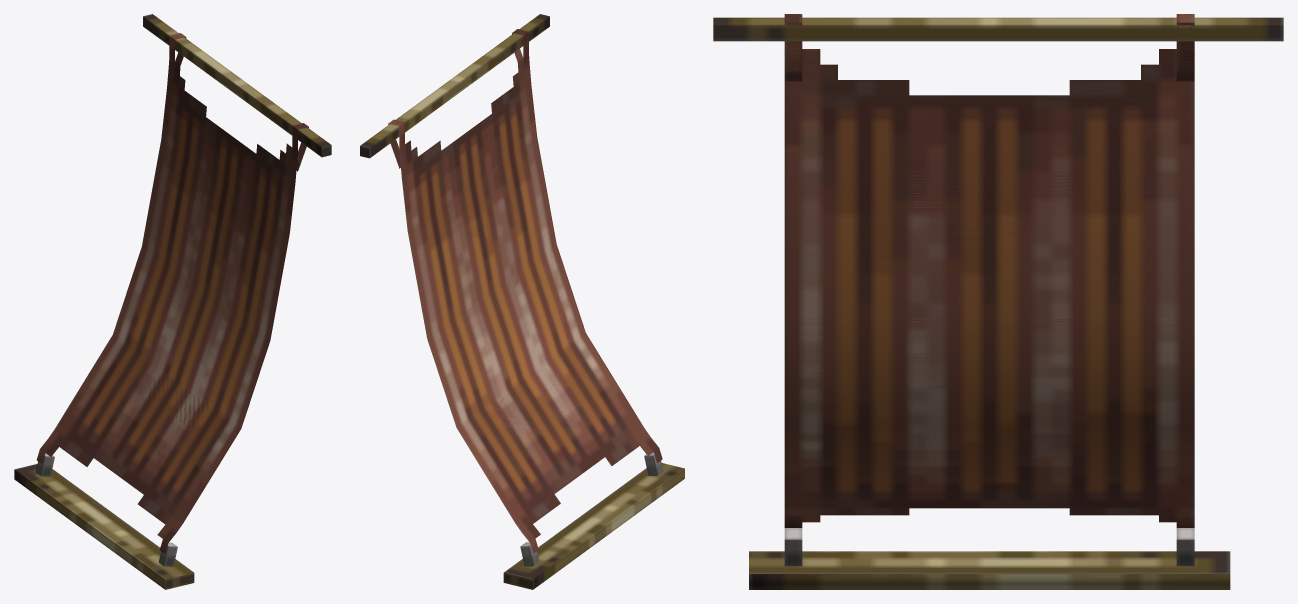
The model's file is ObjMD_Desert_Blind_A.FBX.
3 renders of one model, left to right at view 1: azimuth 30°, elevation 25°; view 2: azimuth 150°, elevation 25°; view 3: azimuth 270°, elevation 25°, orthographic. The views are drawn at different scales.
Visible parts, largest first — view 1: ObjMD_Desert_Blind_A; view 2: ObjMD_Desert_Blind_A; view 3: ObjMD_Desert_Blind_A.
Boxes of the visible parts, x1=… form: ObjMD_Desert_Blind_A: x1=14, y1=14, x2=331, y2=589; ObjMD_Desert_Blind_A: x1=360, y1=14, x2=684, y2=589; ObjMD_Desert_Blind_A: x1=713, y1=14, x2=1283, y2=589.
Bounding box in the file's own units: 100 × 257 × 200.
